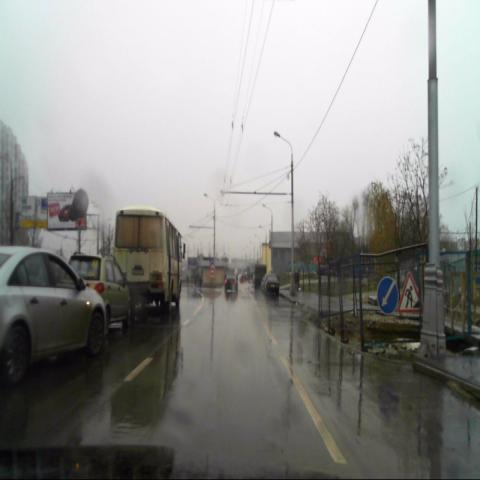1_25: (396, 270, 423, 312)
4_2_2: (377, 277, 398, 313)
